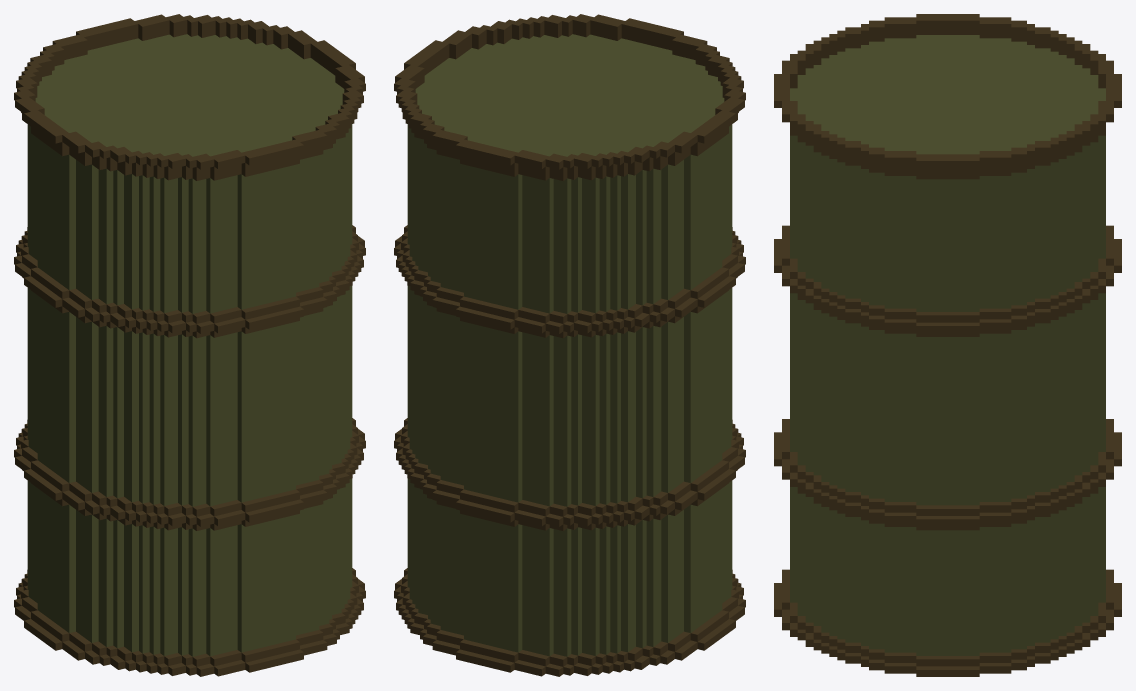
File: Enviroment-2-Barrel.fbx
3 views of the same model, side by side, from view 1: azimuth 30°, elevation 25°; view 2: azimuth 150°, elevation 25°; view 3: azimuth 270°, elevation 25° (orthographic).
Visible parts, largest first — view 1: Barrel; view 2: Barrel; view 3: Barrel.
Boxes of the visible parts, x1=… form: Barrel: x1=14, y1=14, x2=365, y2=676; Barrel: x1=394, y1=14, x2=745, y2=676; Barrel: x1=774, y1=14, x2=1121, y2=676.
Size of the model in its own units: 44 by 72 by 44.
